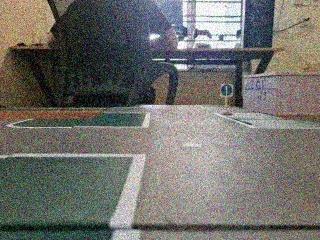straight: (220, 83, 235, 97)
